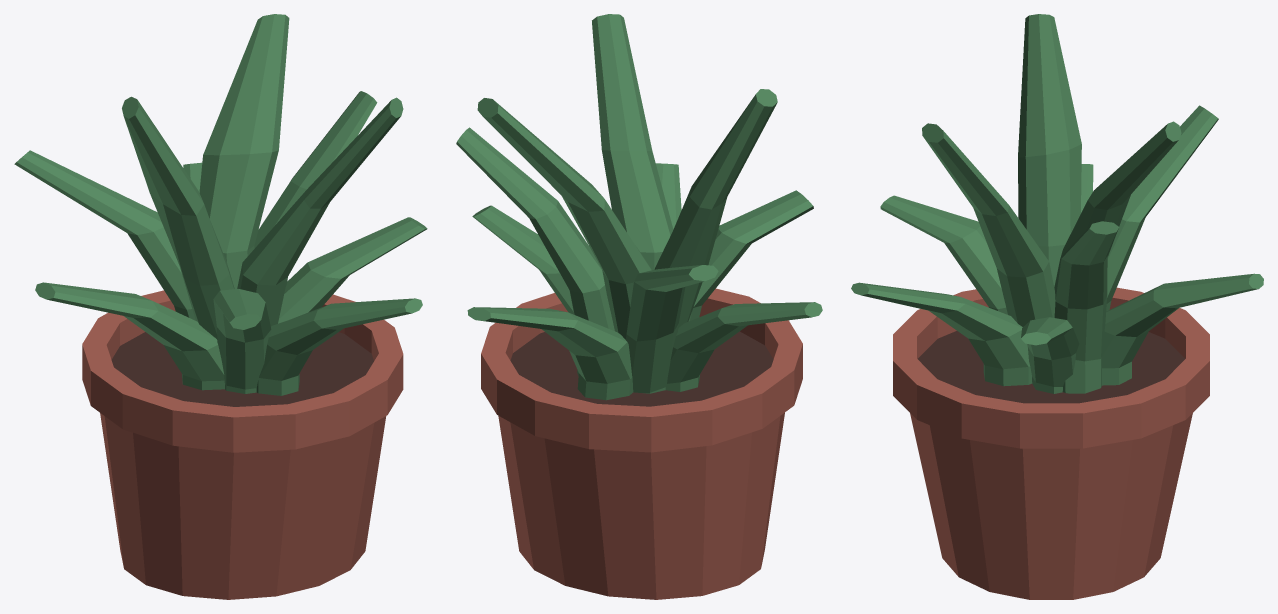
Rendered from PlantPot.fbx.
The picture shows the model from 3 angles, left to right: view 1: azimuth 30°, elevation 25°; view 2: azimuth 150°, elevation 25°; view 3: azimuth 270°, elevation 25°; orthographic projection.
Parts seen in each view (by area): view 1: Cylinder.001, Cylinder; view 2: Cylinder.001, Cylinder; view 3: Cylinder.001, Cylinder.
Part boxes in pixels (left/top/right/bottom): Cylinder.001: left=82, top=290, right=403, bottom=599; Cylinder: left=14, top=14, right=427, bottom=395; Cylinder.001: left=481, top=288, right=802, bottom=599; Cylinder: left=456, top=14, right=822, bottom=400; Cylinder.001: left=893, top=287, right=1209, bottom=599; Cylinder: left=851, top=14, right=1263, bottom=393.
Size of the model in its own units: 275 by 350 by 273.
